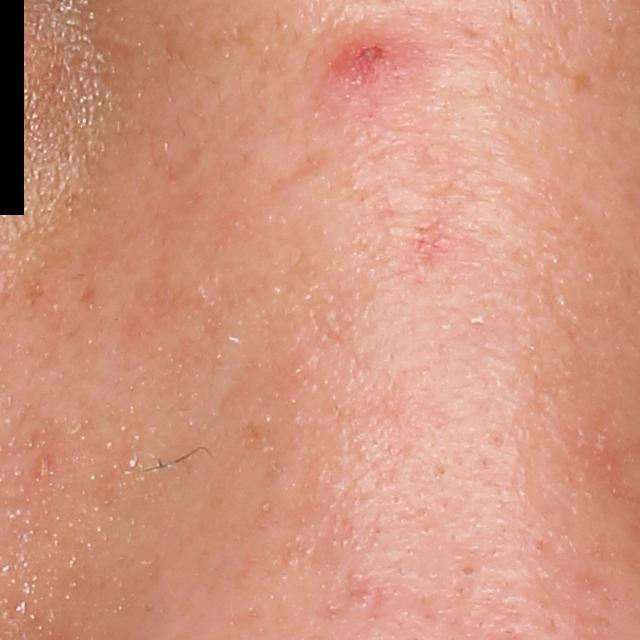atrophic_scar: (270, 146, 330, 194)
comedo: (460, 564, 477, 578)
papule: (327, 25, 409, 82)
